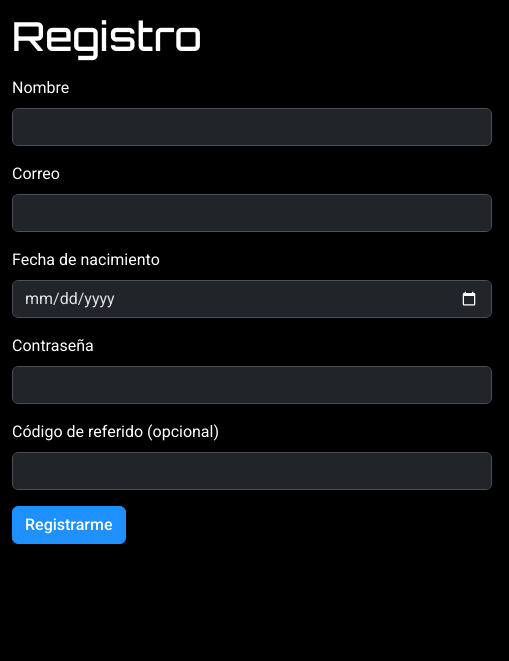
Test: muestra el error de edad si el usuario es menor de 18 años
Type "2015-01-01" into the date field labelled "Fecha de nacimiento" at point(252, 299), box x1=12 y1=280 x2=492 y2=318
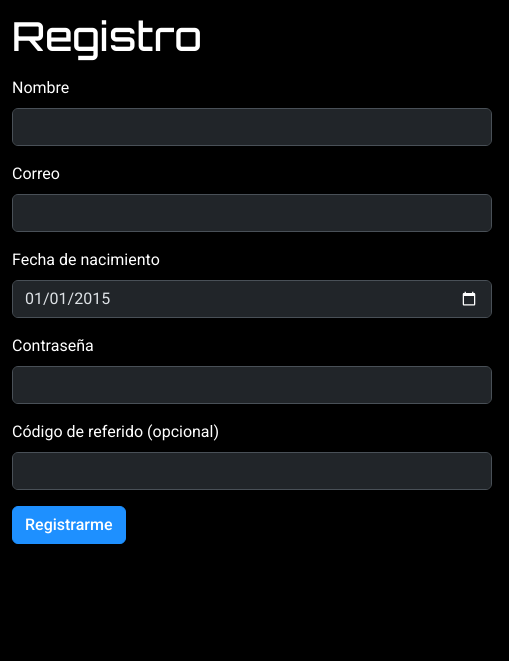
Click the button "Registrarme" at point(69, 525), box x1=12 y1=506 x2=126 y2=544
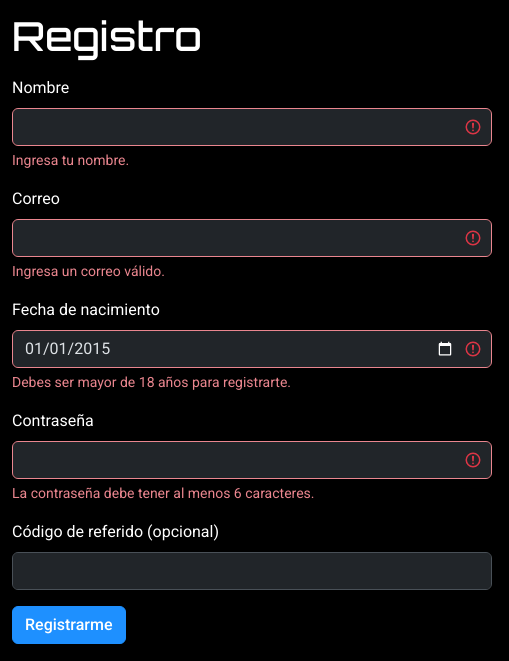
Result: the text "Debes ser mayor de 18 años para registrarte." is shown at x1=12 y1=374 x2=291 y2=390
